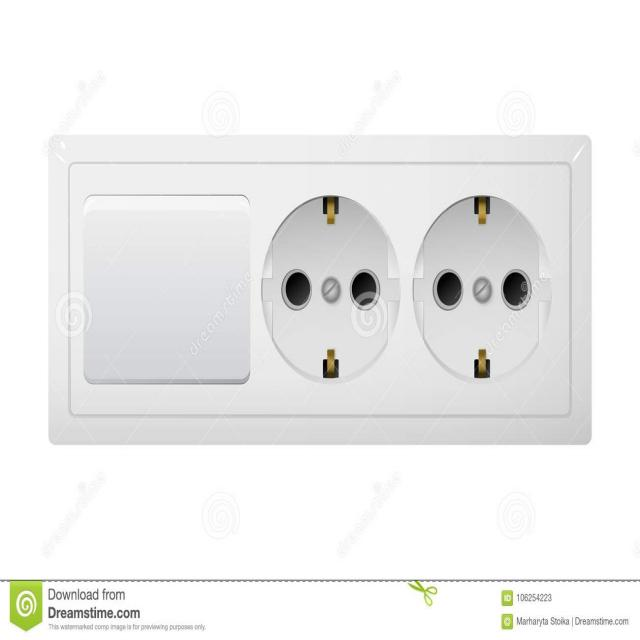typeb: (31, 120, 605, 462)
